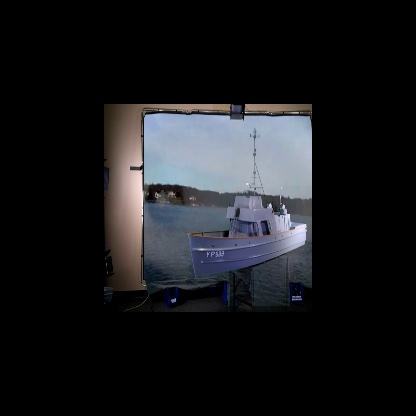YP689: (187, 129, 308, 279)
